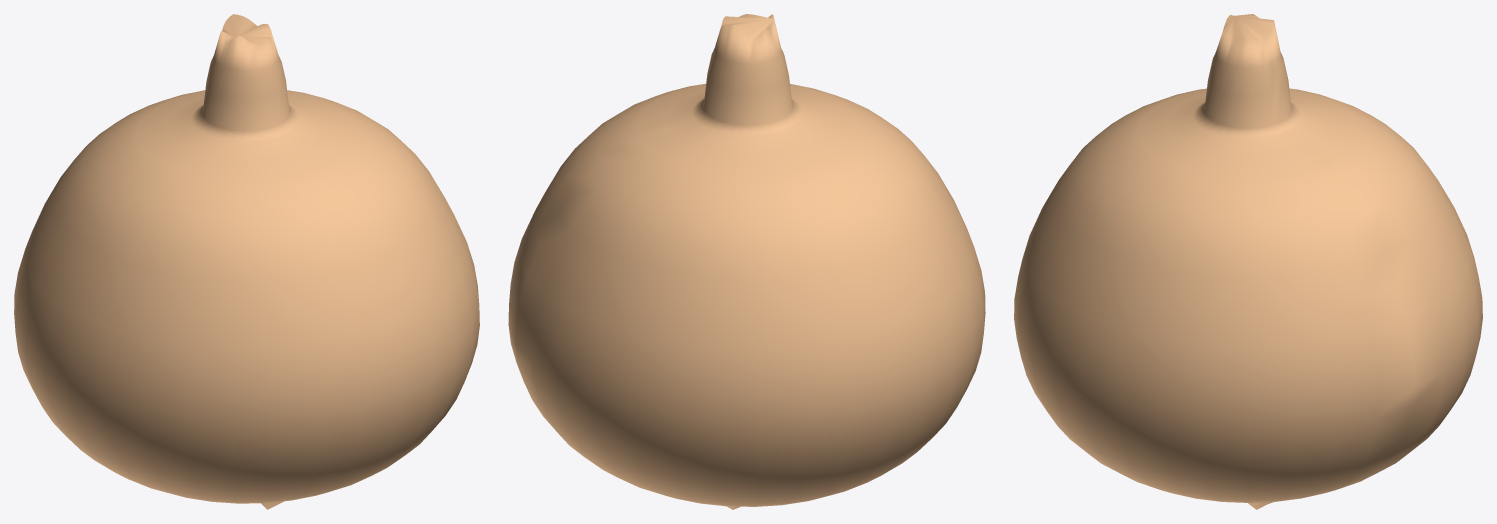
Rendered from onion.fbx.
3 views of the same model, side by side, from view 1: azimuth 30°, elevation 25°; view 2: azimuth 150°, elevation 25°; view 3: azimuth 270°, elevation 25° (orthographic). The views are drawn at different scales.
Visible parts, largest first — view 1: th_5_01; view 2: th_5_01; view 3: th_5_01.
Boxes of the visible parts, <box> form: th_5_01: <box>14,14,479,509</box>; th_5_01: <box>508,14,985,509</box>; th_5_01: <box>1014,14,1482,509</box>.
Bounding box in the file's own units: 241 × 269 × 241.
